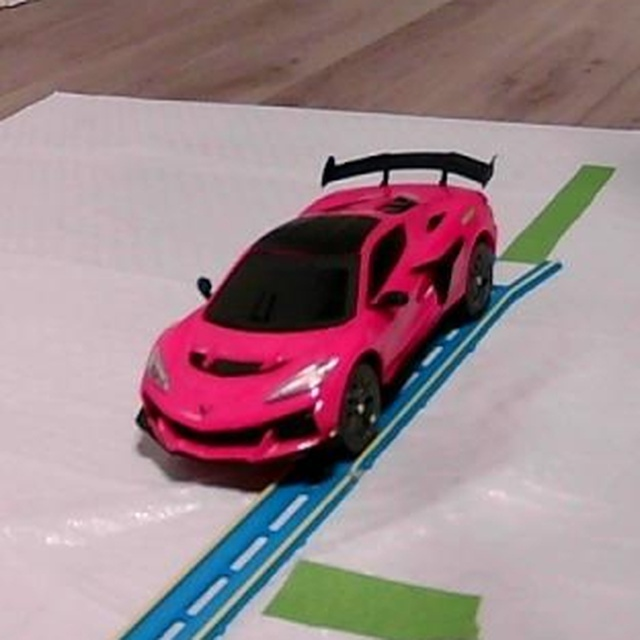tire_front_driver: (328, 362, 388, 455)
tire_rear_driver: (462, 238, 498, 338)
